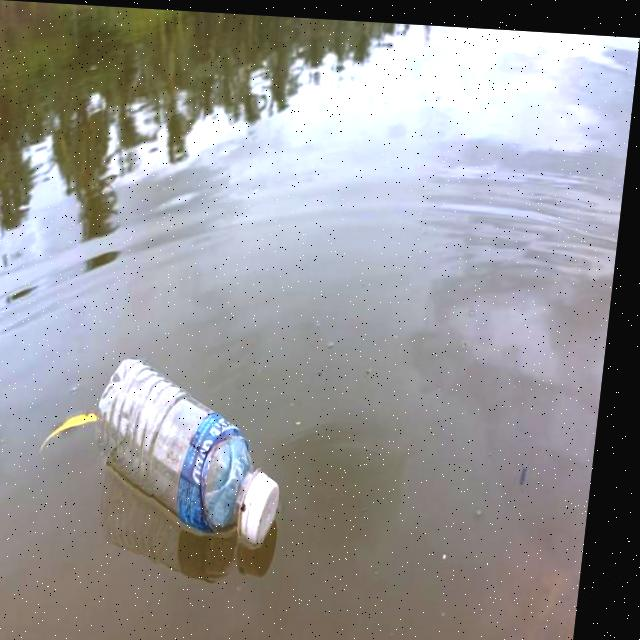waterbottle: (92, 344, 318, 552)
